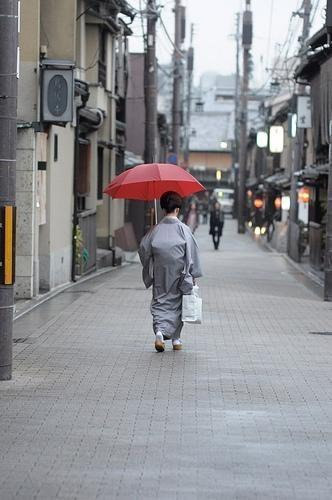car: (212, 187, 236, 218)
